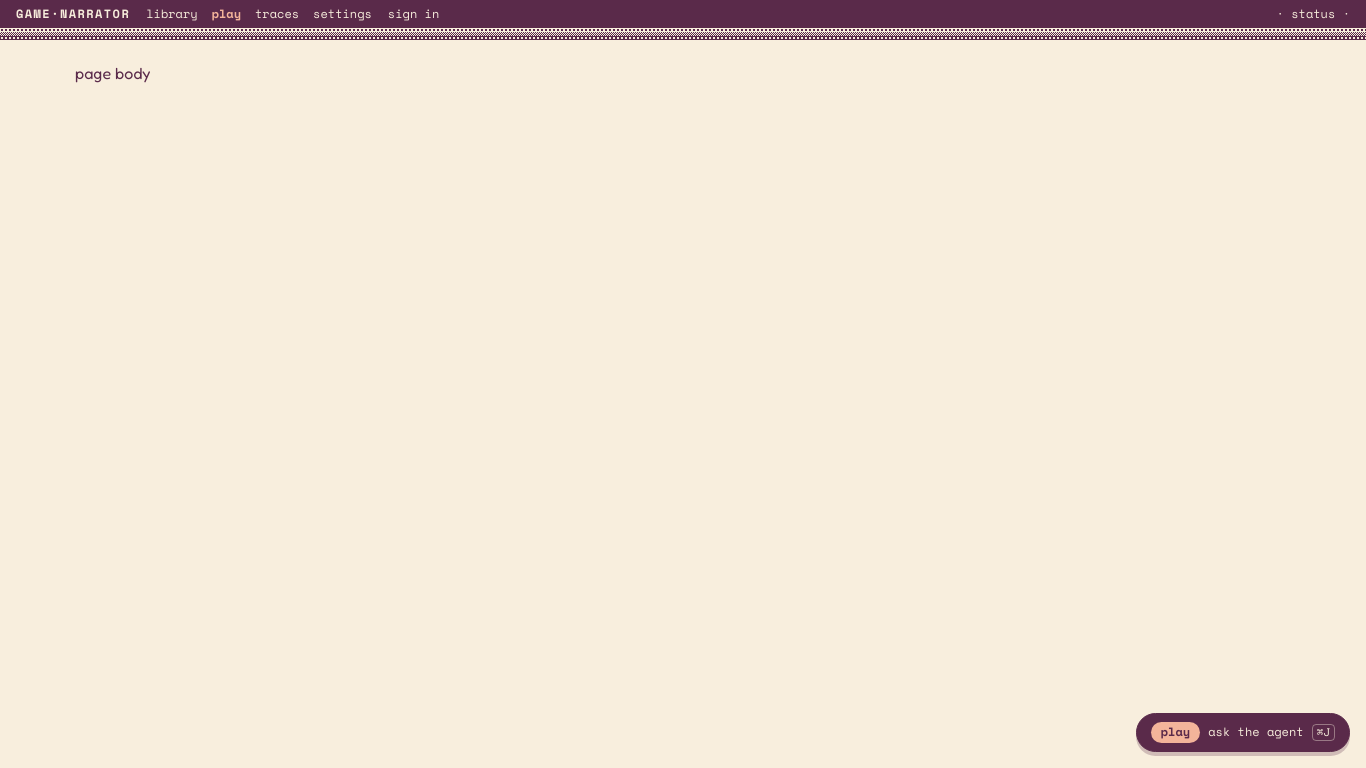
Test: Shell › opens the ⌘J agent dock with the context chip
Press j
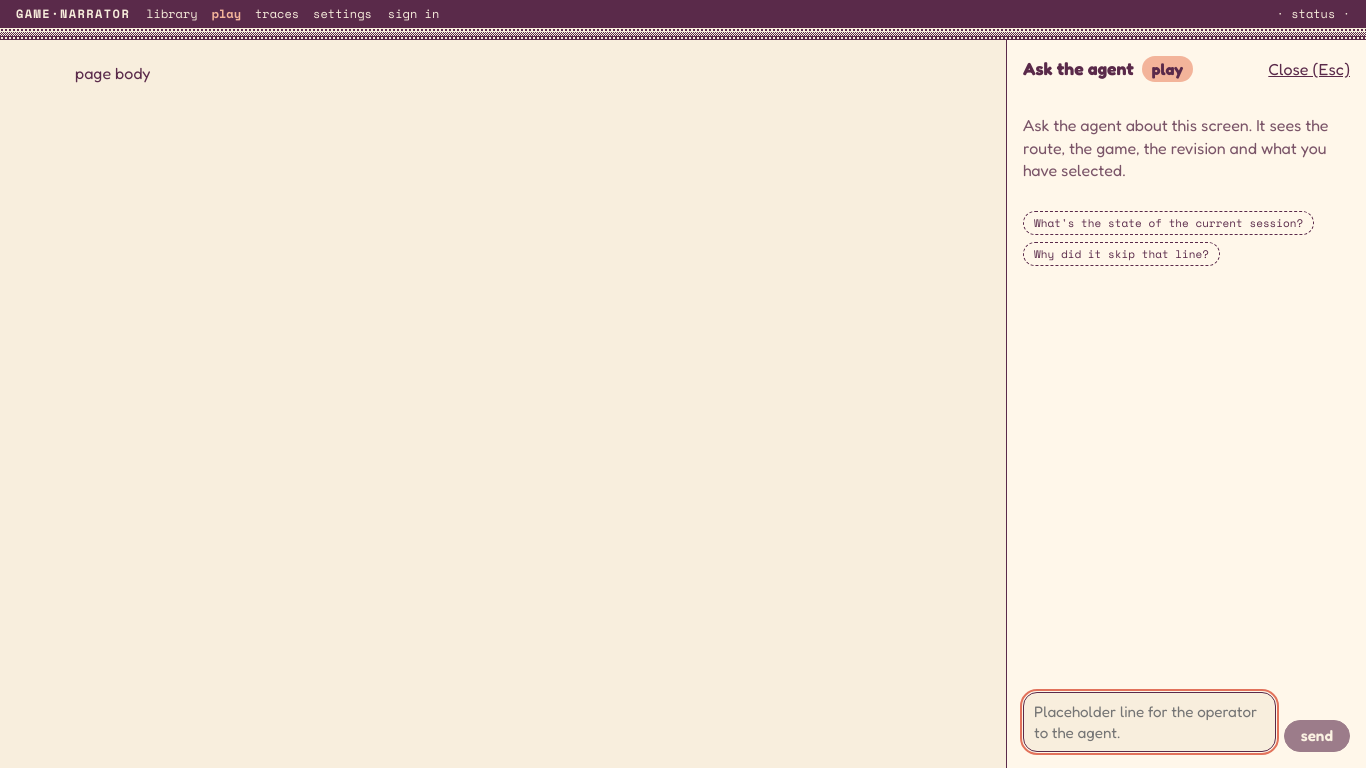
Expected: the text with test id "agent-dock-context" reads "play", [1152,59,1183,79]
Expected: the element with test id "agent-dock" is shown, [1006,40,1365,767]
Click the button with test id "agent-dock-close" at (1309, 69), box [1268,58,1350,80]
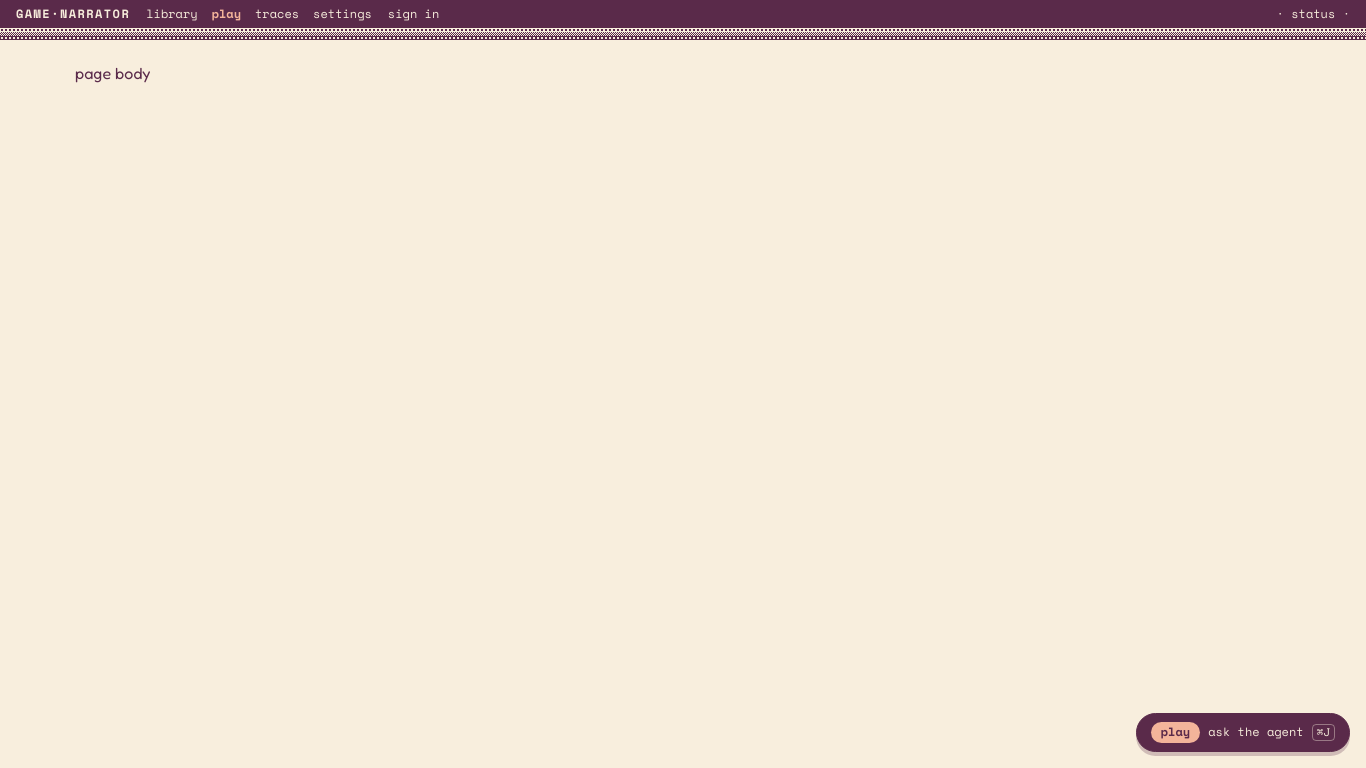
Expected: the element with test id "agent-dock" is gone
